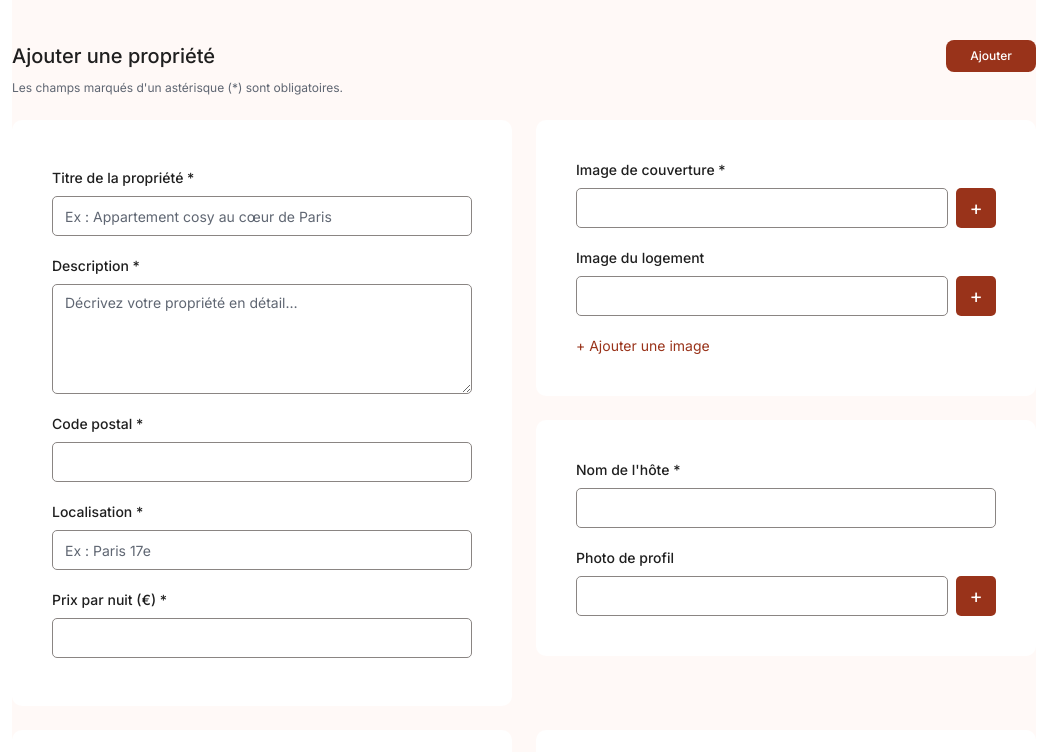
PropertyForm › retire l'erreur d'un champ dès qu'il est corrigé
Click the button "Ajouter": (991, 56) [946, 40, 1036, 72]
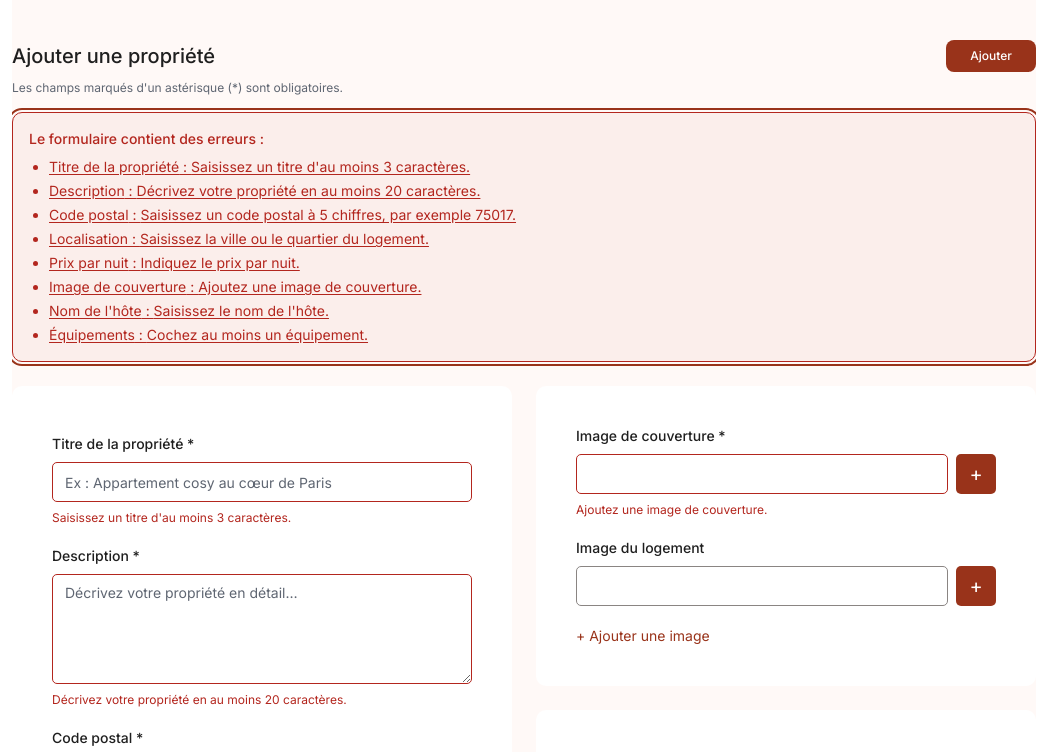
Result: the field labelled "Titre de la propriété *" is marked as invalid
In the field labelled "Titre de la propriété *": (262, 482) [52, 462, 472, 502], type "Loft"
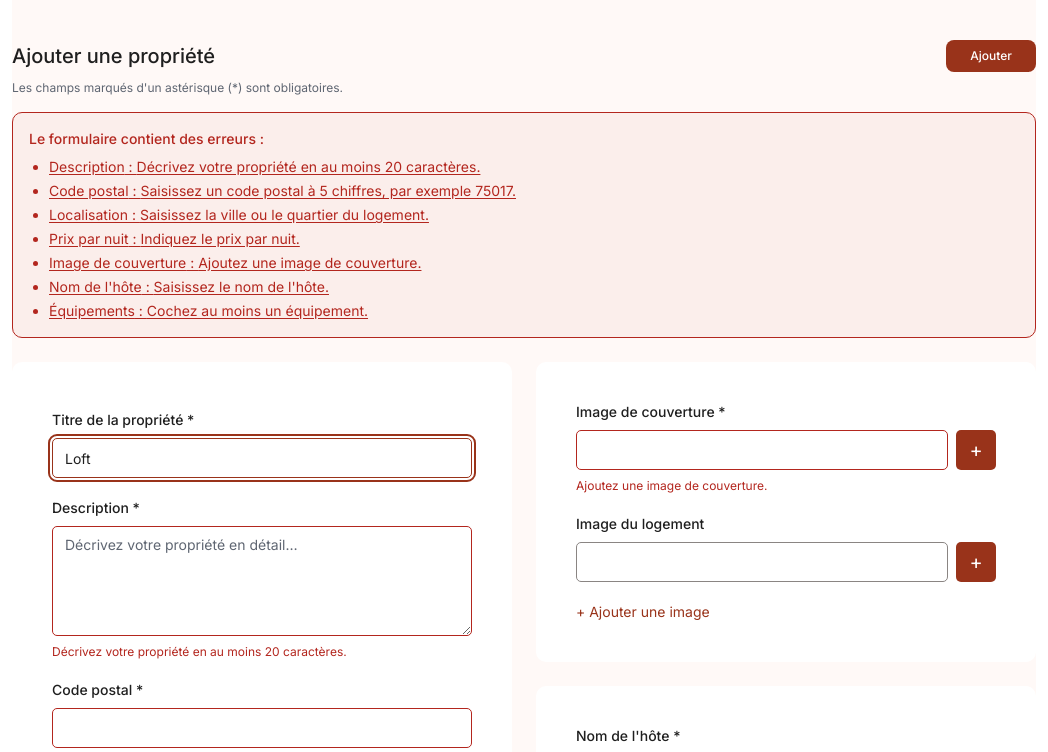
Result: the field labelled "Titre de la propriété *" is not marked as invalid at [52, 438, 472, 478]
